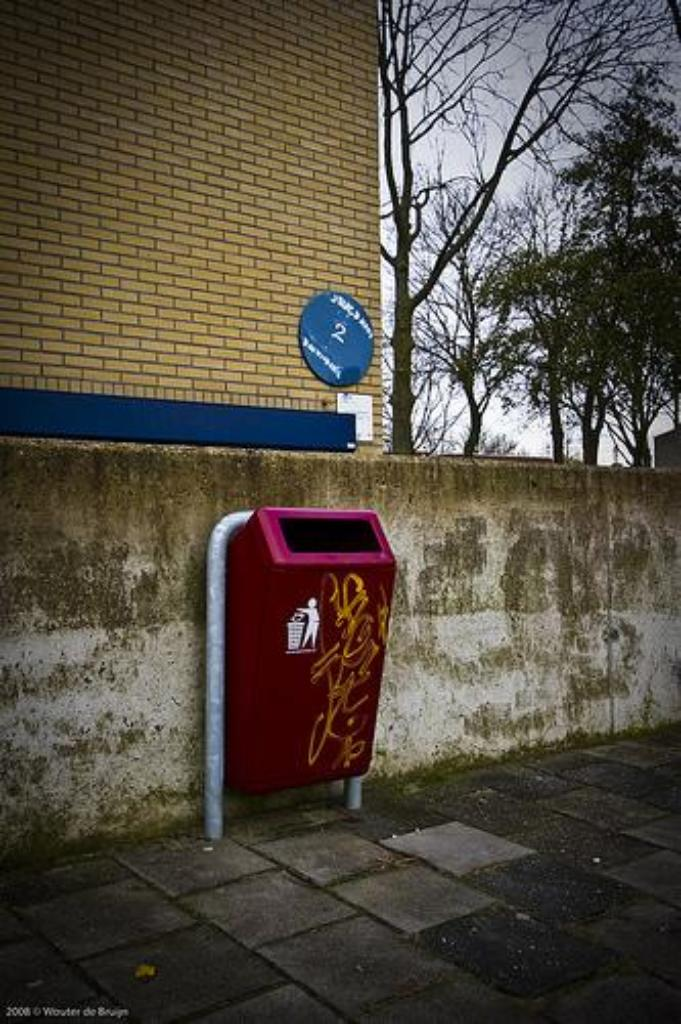dustbin: (205, 482, 405, 855)
